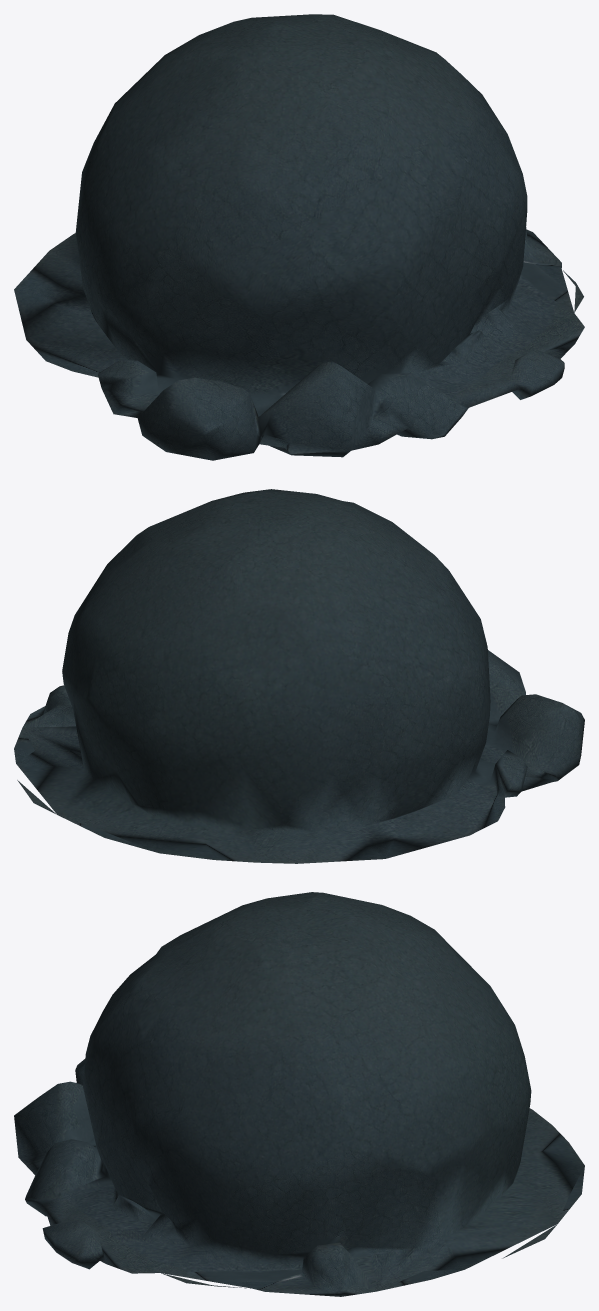
File: mossy_boulder.glb
3 views of the same model, one above another, from view 1: azimuth 30°, elevation 25°; view 2: azimuth 150°, elevation 25°; view 3: azimuth 270°, elevation 25° (orthographic). The views are drawn at different scales.
Size of the model in its own units: 1.84 by 1.09 by 1.88.
1 material, 1 textured.
